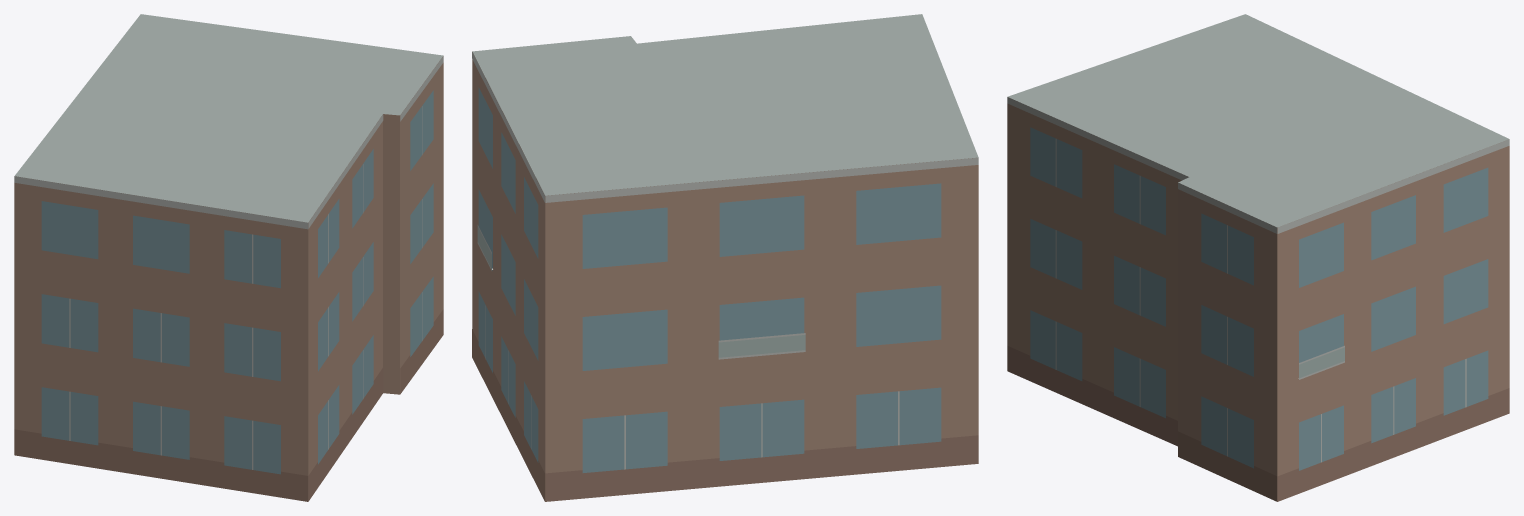
Rendered from survey-upis-32624696.glb.
3 views of the same model, side by side, from view 1: azimuth 30°, elevation 25°; view 2: azimuth 150°, elevation 25°; view 3: azimuth 270°, elevation 25° (orthographic). The views are drawn at different scales.
Parts seen in each view (by area): view 1: survey-upis-32624696.tmp; view 2: survey-upis-32624696.tmp; view 3: survey-upis-32624696.tmp.
Boxes of the visible parts, x1,y1,x2,y2 form: survey-upis-32624696.tmp: (14,14,443,501); survey-upis-32624696.tmp: (472,14,978,501); survey-upis-32624696.tmp: (1007,14,1509,501).
Bounding box in the file's own units: 17.04 × 10.2 × 16.94.
